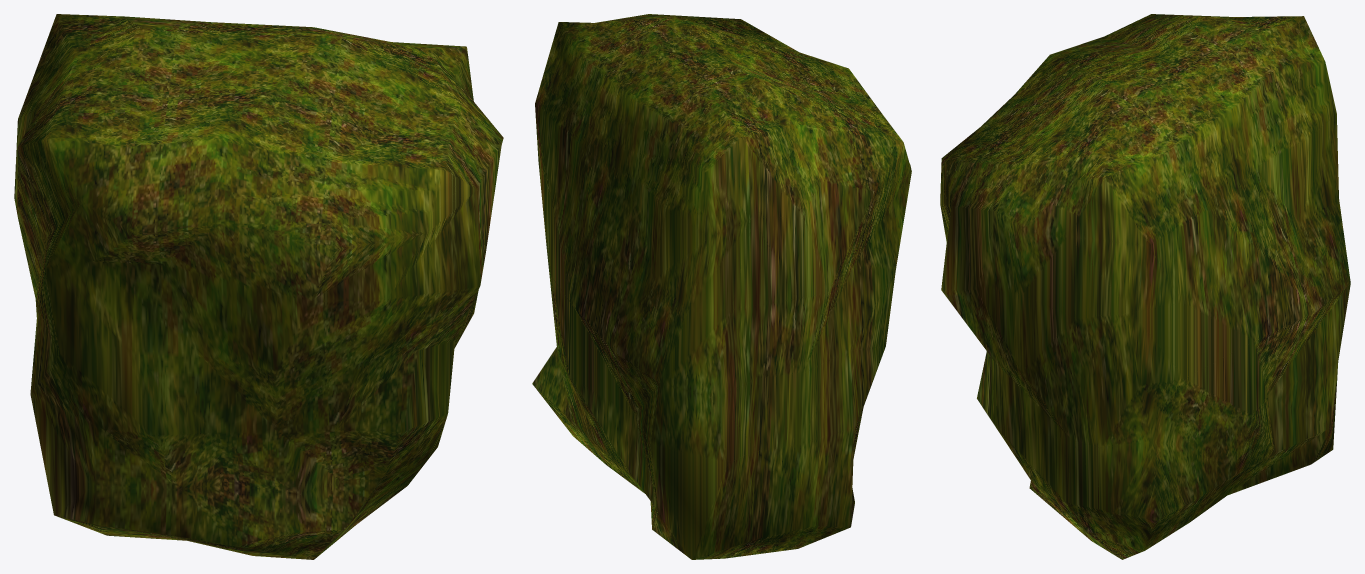
The model's file is LVL_ROAST_MUTTON_ROCK01.fbx.
The picture shows the model from 3 angles, left to right: view 1: azimuth 30°, elevation 25°; view 2: azimuth 150°, elevation 25°; view 3: azimuth 270°, elevation 25°; orthographic projection. The views are drawn at different scales.
Visible parts, largest first — view 1: LVL_ROAST_MUTTON_ROCK01; view 2: LVL_ROAST_MUTTON_ROCK01; view 3: LVL_ROAST_MUTTON_ROCK01.
Boxes of the visible parts, x1,y1,x2,y2 form: LVL_ROAST_MUTTON_ROCK01: (14,14,503,559); LVL_ROAST_MUTTON_ROCK01: (532,14,911,559); LVL_ROAST_MUTTON_ROCK01: (940,14,1350,559).
Bounding box in the file's own units: 97823 × 119291 × 93499.
1 material, 1 textured.
